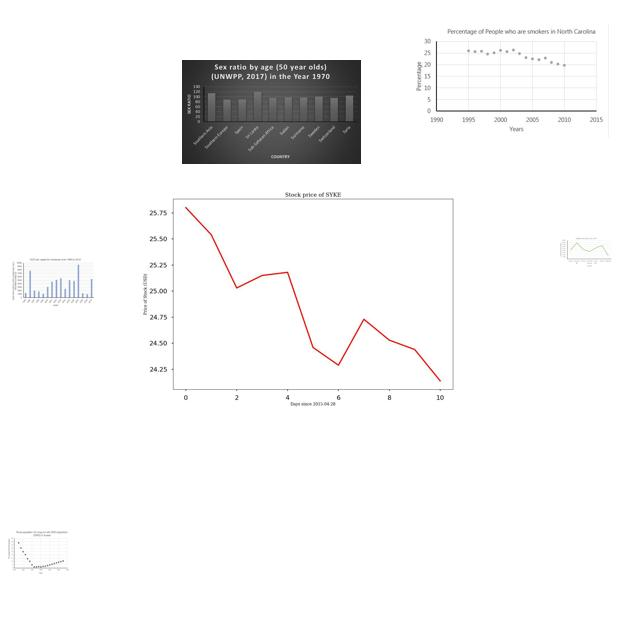Graph: (128, 169, 489, 417), (411, 24, 609, 138), (182, 60, 361, 164), (11, 257, 95, 307), (7, 530, 71, 575), (560, 237, 612, 267)
